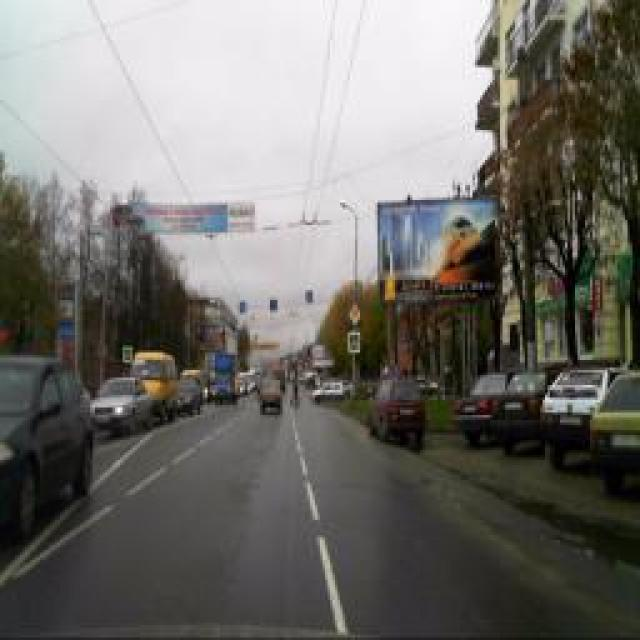sign: (349, 303, 361, 325)
